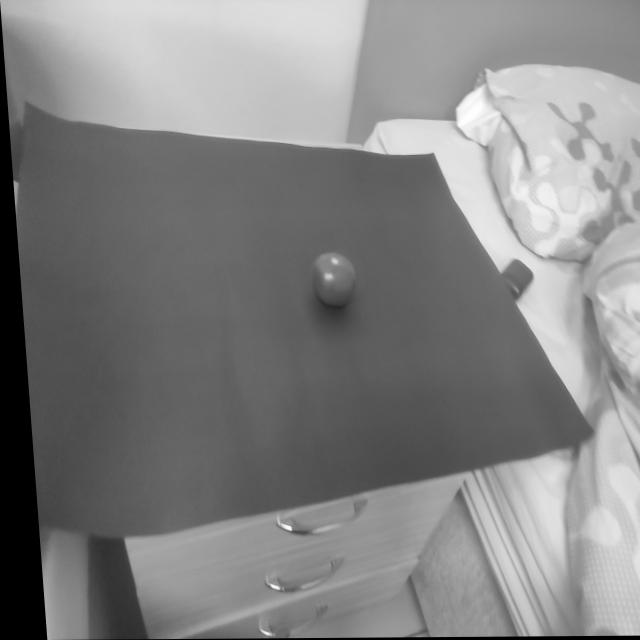kirmizi: (292, 236, 374, 325)
